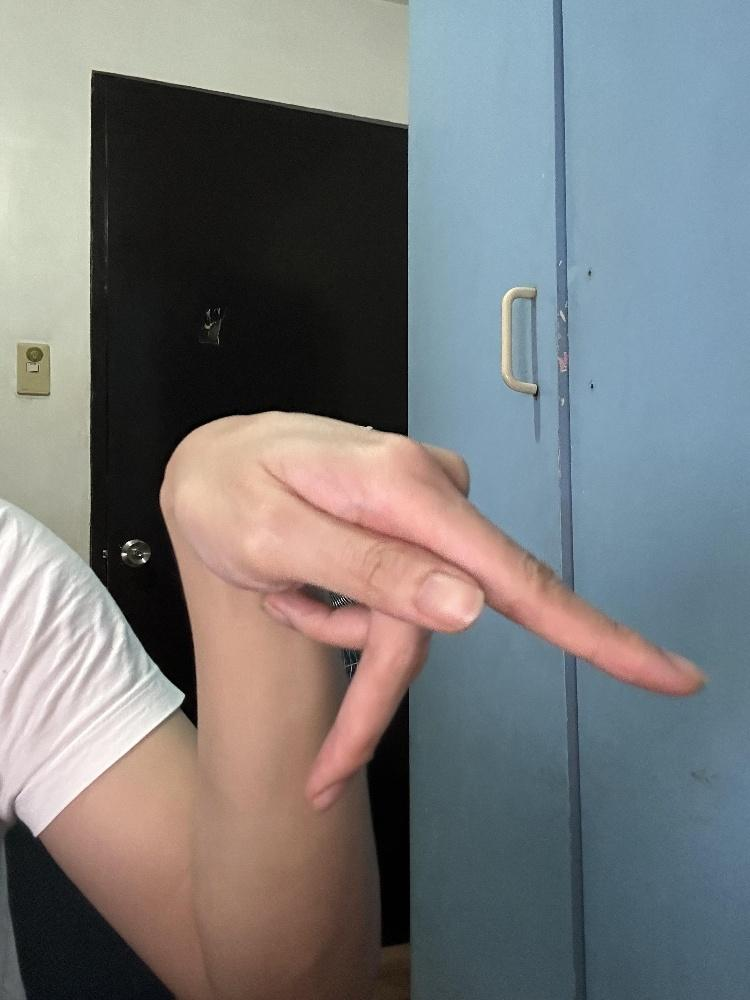p: (156, 407, 711, 815)
